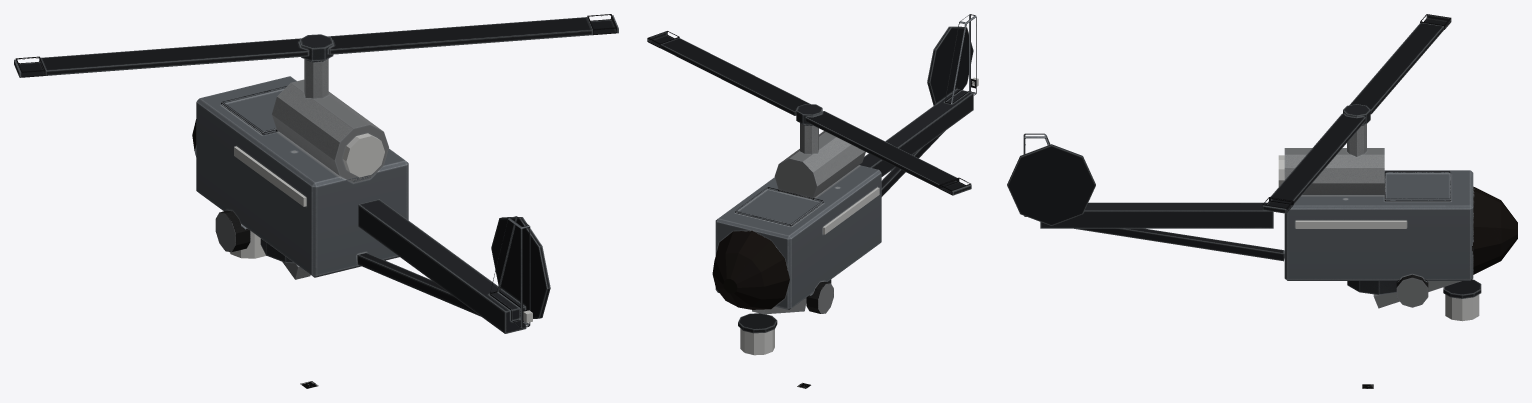
The model's file is chs_vulture.fbx.
3 views of the same model, side by side, from view 1: azimuth 30°, elevation 25°; view 2: azimuth 150°, elevation 25°; view 3: azimuth 270°, elevation 25° (orthographic). The views are drawn at different scales.
Parts seen in each view (by area): view 1: base_bar, rotor_bar, base_glow_running_bar, nano_bar; view 2: base_bar, rotor_bar, nano_bar, nano_glow_power_bar, base_glow_running_bar; view 3: base_bar, rotor_bar, nano_bar, base_glow_running_bar, nano_glow_power_bar.
Part boxes in pixels (x1=…): base_bar: x1=192, y1=59, x2=550, y2=333; rotor_bar: x1=14, y1=14, x2=618, y2=77; base_glow_running_bar: x1=234, y1=133, x2=532, y2=322; nano_bar: x1=260, y1=238, x2=310, y2=279; base_bar: x1=712, y1=14, x2=976, y2=313; rotor_bar: x1=647, y1=31, x2=971, y2=195; nano_bar: x1=738, y1=279, x2=831, y2=333; nano_glow_power_bar: x1=740, y1=328, x2=774, y2=355; base_glow_running_bar: x1=823, y1=77, x2=978, y2=234; base_bar: x1=1007, y1=124, x2=1517, y2=307; rotor_bar: x1=1262, y1=14, x2=1451, y2=213; nano_bar: x1=1347, y1=279, x2=1481, y2=308; base_glow_running_bar: x1=1278, y1=155, x2=1406, y2=228; nano_glow_power_bar: x1=1445, y1=294, x2=1479, y2=321.
Bounding box in the file's own units: 833 × 550 × 920.
2 materials, 2 textured.
